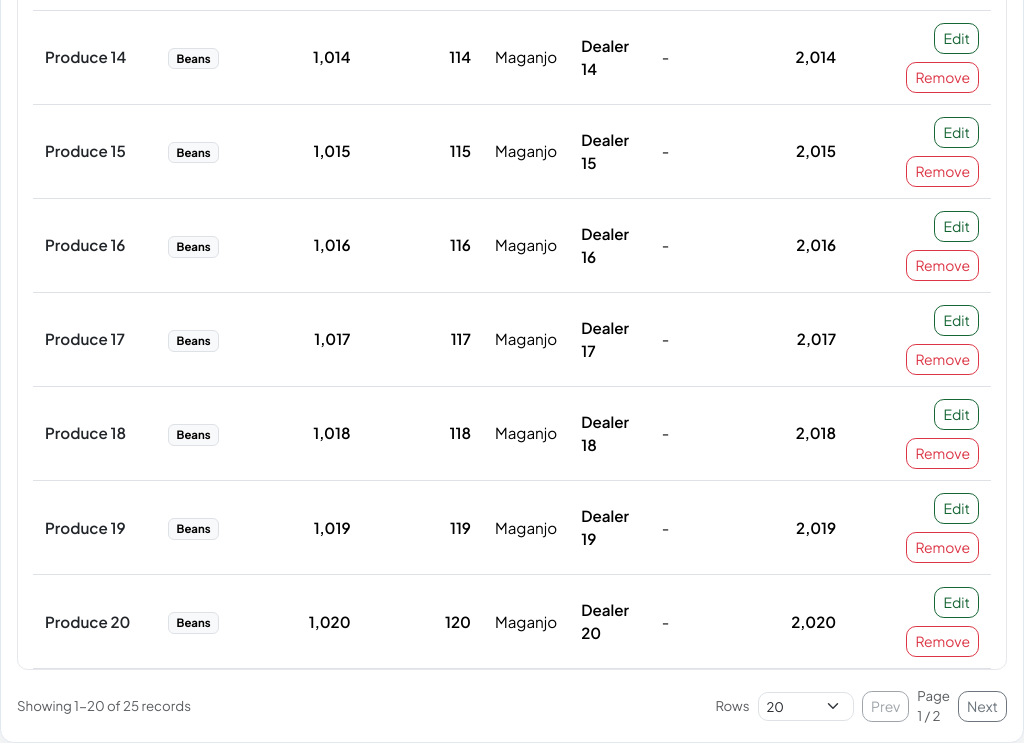
Test: ProcurementRecordsTable › paginates records and navigates pages
(page scrolled)
Click the button "Next" at [982, 706], box 958,691 -> 1007,722
(page scrolled)
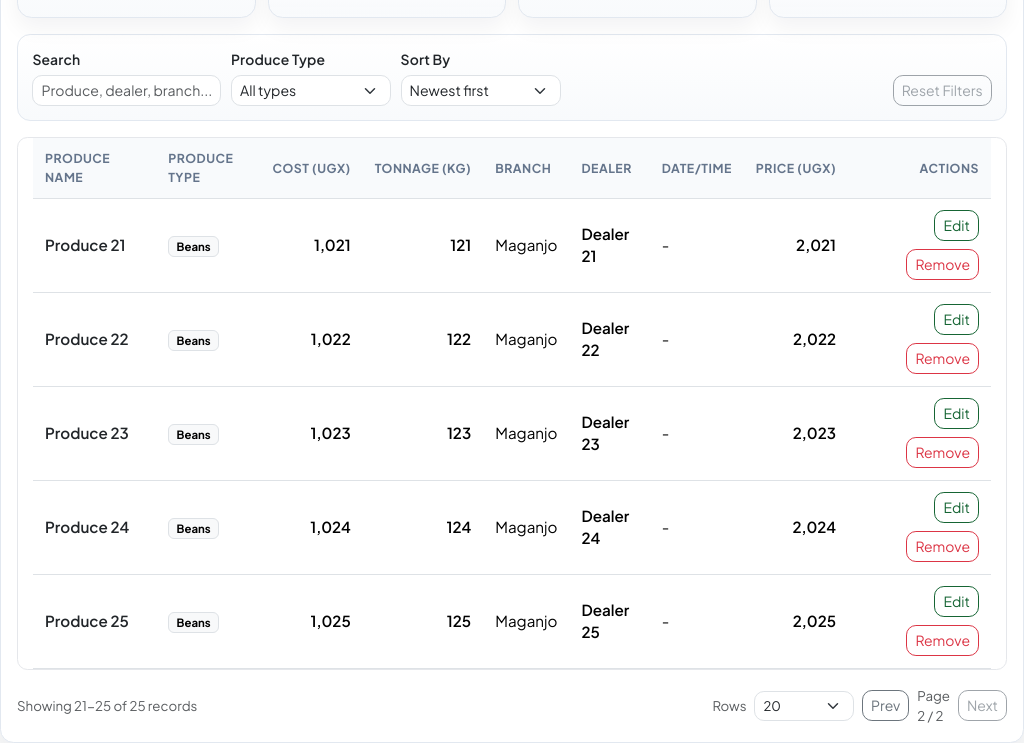
Result: the text "Showing 21-25 of 25 records" is shown at 17,696 -> 197,716
Result: the cell "Produce 21" is shown at 33,198 -> 156,292
